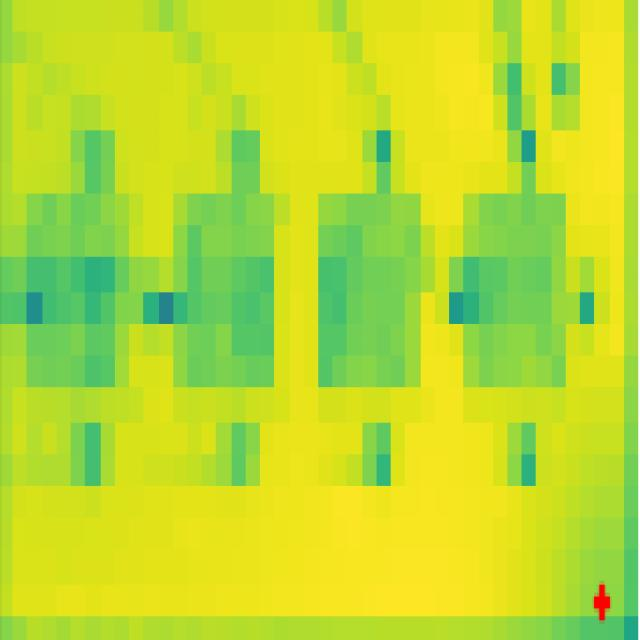Concrete: (462, 195, 566, 384)
Glass: (317, 196, 422, 390)
Metal: (27, 194, 130, 388)
Wood: (173, 194, 276, 390)
